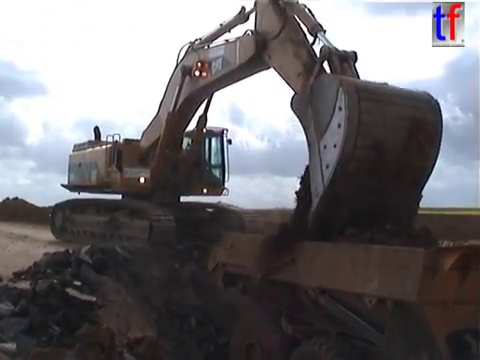excavator: (47, 1, 447, 258)
truck: (203, 210, 480, 360)
